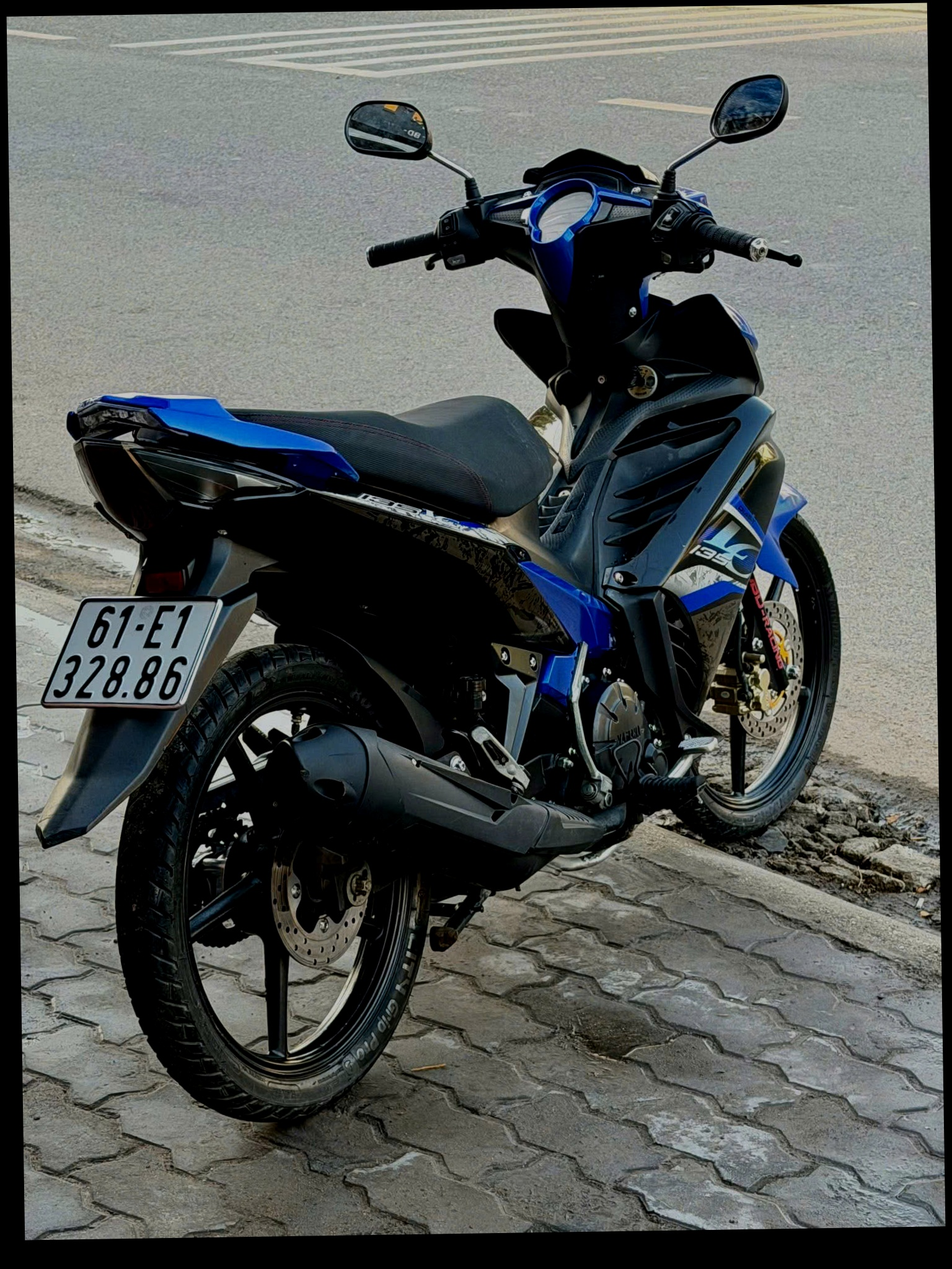Bien-so: (31, 606, 208, 720)
